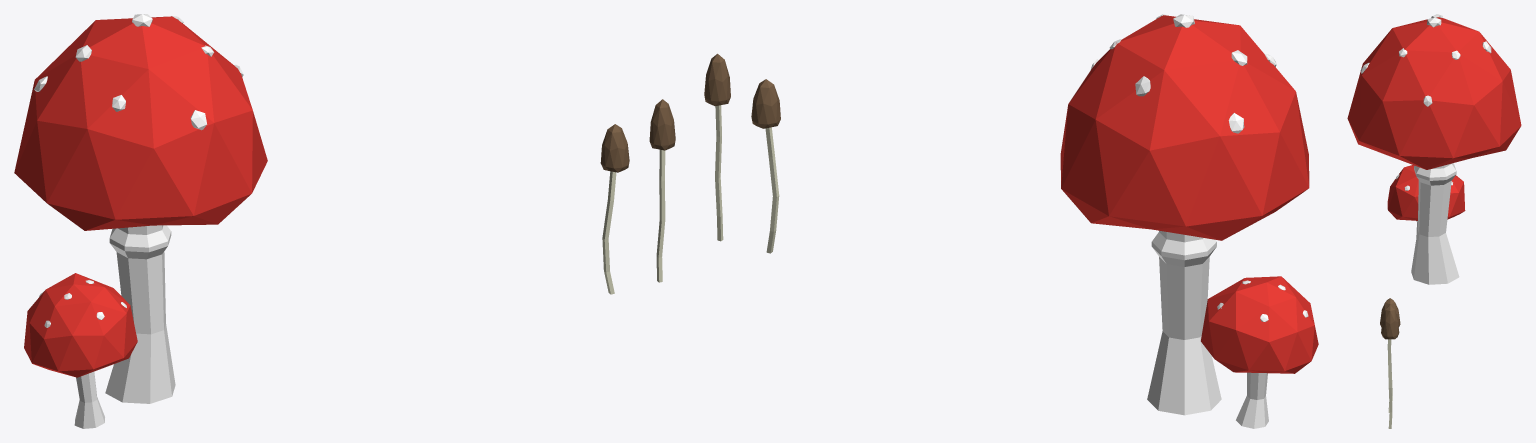
Rendered from mushrom.gltf.
3 views of the same model, side by side, from view 1: azimuth 30°, elevation 25°; view 2: azimuth 150°, elevation 25°; view 3: azimuth 270°, elevation 25° (orthographic). The views are drawn at different scales.
Parts seen in each view (by area): view 1: Mushroom5_3, Mushroom2_3, Mushroom2_2; view 2: Mushroom5_3, Mushroom2_3, Mushroom2_2; view 3: Mushroom5_3, Mushroom2_2, Mushroom2_3.
Boxes of the visible parts, left/top/right/bottom form: Mushroom5_3: left=14, top=14, right=267, bottom=428; Mushroom2_3: left=600, top=124, right=629, bottom=294; Mushroom2_2: left=649, top=99, right=675, bottom=282; Mushroom5_3: left=1060, top=14, right=1318, bottom=428; Mushroom2_3: left=751, top=79, right=780, bottom=253; Mushroom2_2: left=704, top=53, right=730, bottom=241; Mushroom5_3: left=1347, top=14, right=1521, bottom=284; Mushroom2_2: left=1381, top=305, right=1399, bottom=428; Mushroom2_3: left=1380, top=298, right=1400, bottom=412.
Bounding box in the file's own units: 2.64 × 1.59 × 0.9432.
